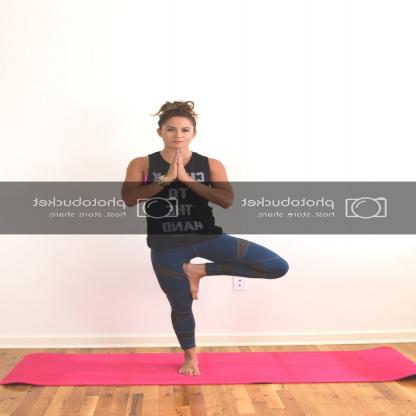tree: (93, 94, 301, 386)
